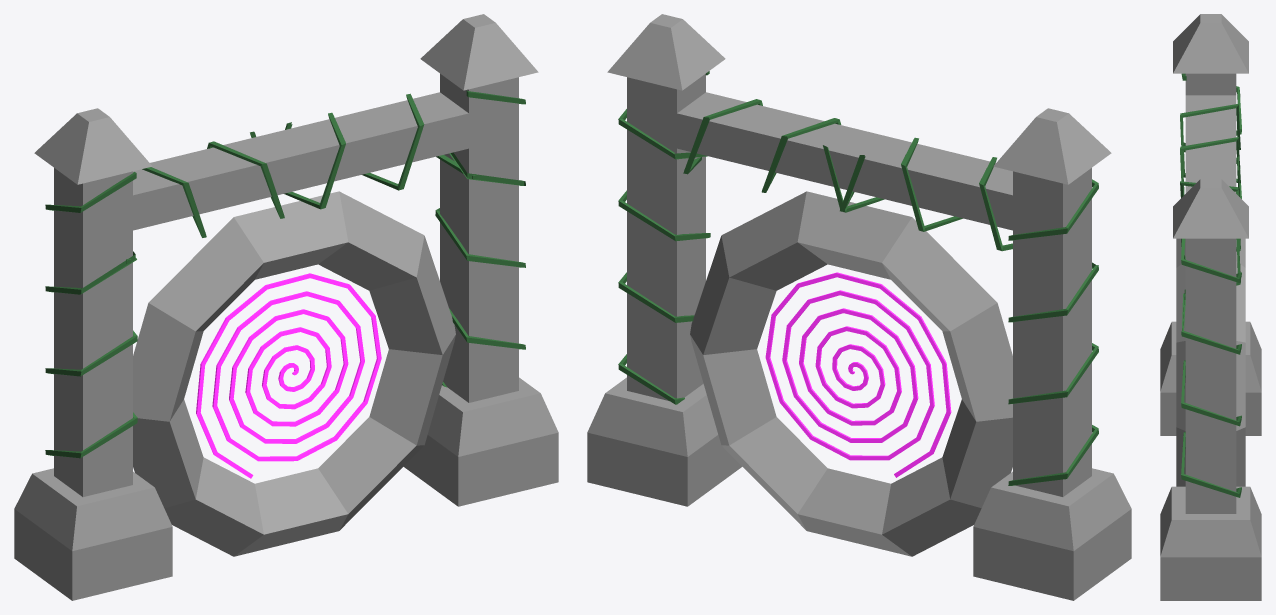
File: portal2animação.fbx
The picture shows the model from 3 angles, left to right: view 1: azimuth 30°, elevation 25°; view 2: azimuth 150°, elevation 25°; view 3: azimuth 270°, elevation 25°; orthographic projection. The views are drawn at different scales.
Parts seen in each view (by area): view 1: Cube, Torus, Spiral.001, Spiral.002, Spiral.003; view 2: Cube, Torus, Spiral.001, Spiral.002, Spiral.003; view 3: Cube, Torus, Spiral.002, Spiral.003.
Boxes of the visible parts, x1=… form: Cube: x1=14, y1=14, x2=558, y2=600; Torus: x1=133, y1=191, x2=455, y2=556; Spiral.001: x1=196, y1=273, x2=381, y2=478; Spiral.002: x1=45, y1=90, x2=525, y2=458; Spiral.003: x1=126, y1=93, x2=477, y2=263; Cube: x1=587, y1=14, x2=1131, y2=600; Torus: x1=690, y1=191, x2=1012, y2=556; Spiral.001: x1=765, y1=272, x2=951, y2=477; Spiral.002: x1=618, y1=71, x2=1098, y2=485; Spiral.003: x1=683, y1=99, x2=1012, y2=251; Cube: x1=1160, y1=14, x2=1261, y2=600; Torus: x1=1176, y1=238, x2=1245, y2=486; Spiral.002: x1=1181, y1=73, x2=1241, y2=497; Spiral.003: x1=1180, y1=103, x2=1240, y2=299.
Bounding box in the file's own units: 2463 × 2303 × 509.
